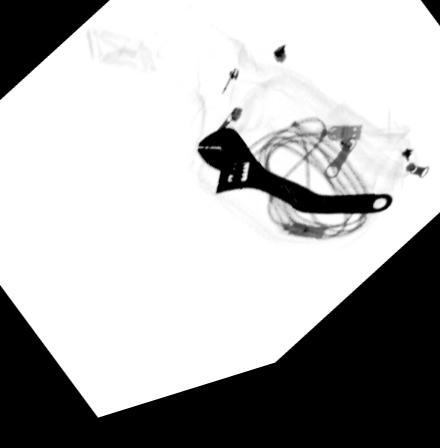Wrench: (194, 140, 394, 238)
